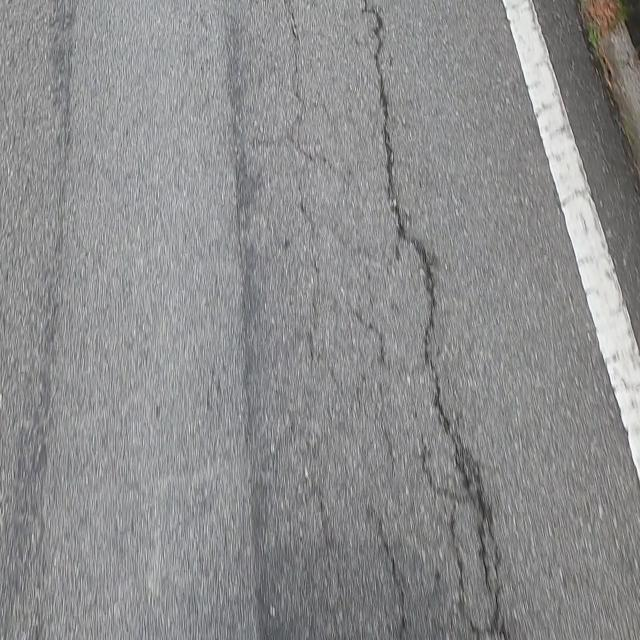Retak-Memanjang: (358, 3, 495, 601), (419, 451, 478, 640)
